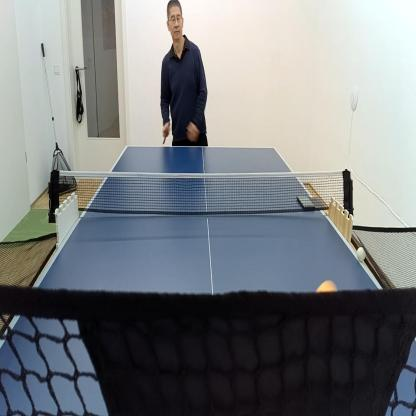Ball: (316, 278, 338, 294), (356, 244, 367, 264)
